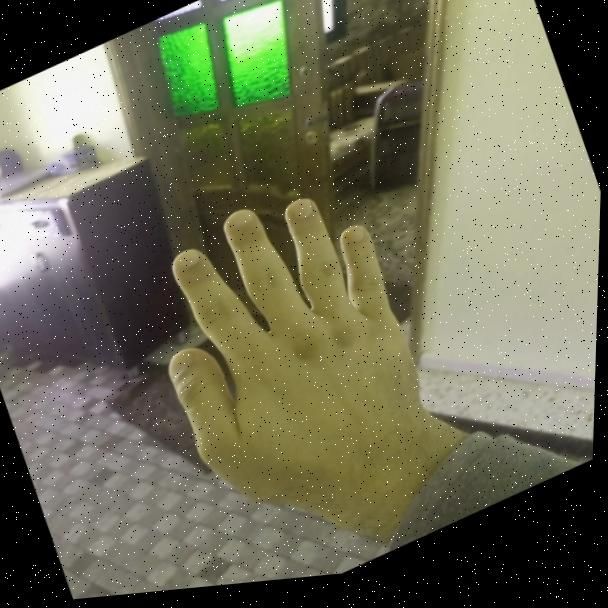five: (114, 137, 478, 551)
